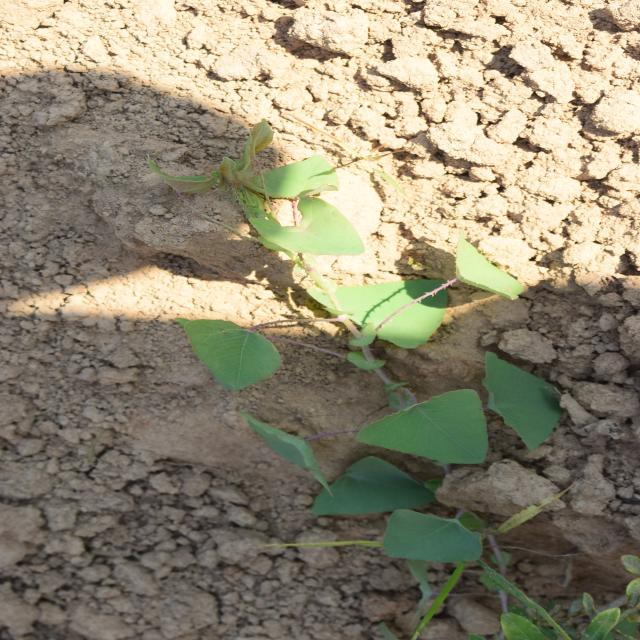Asiatic_Smartweed: (78, 248, 290, 549), (261, 182, 398, 518), (368, 141, 514, 397)
